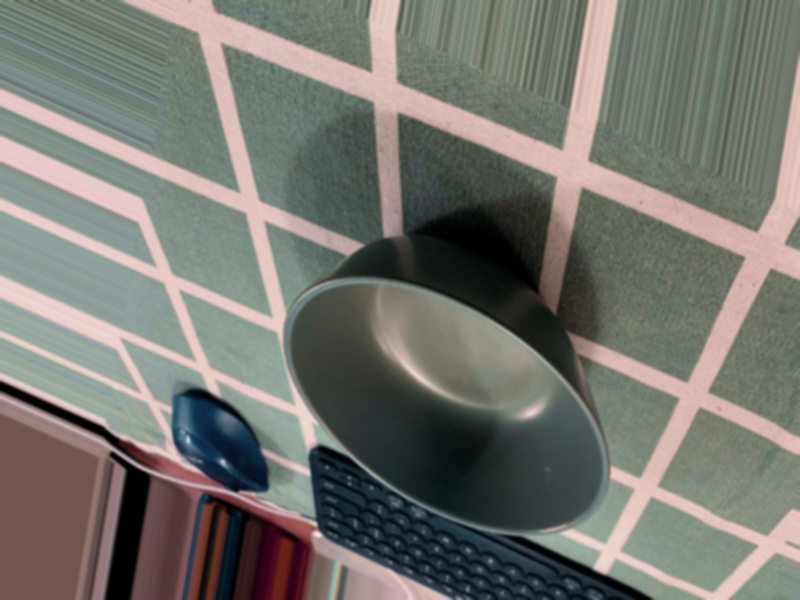bowl_big: (256, 167, 641, 589)
